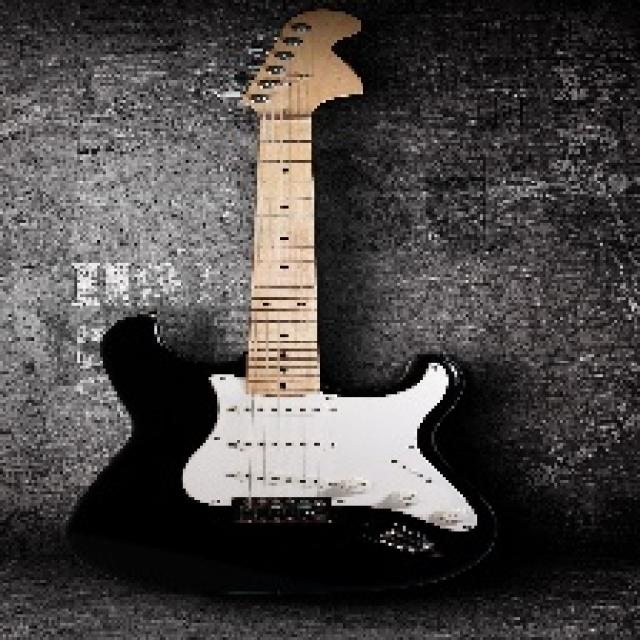guitar: (67, 4, 504, 606)
